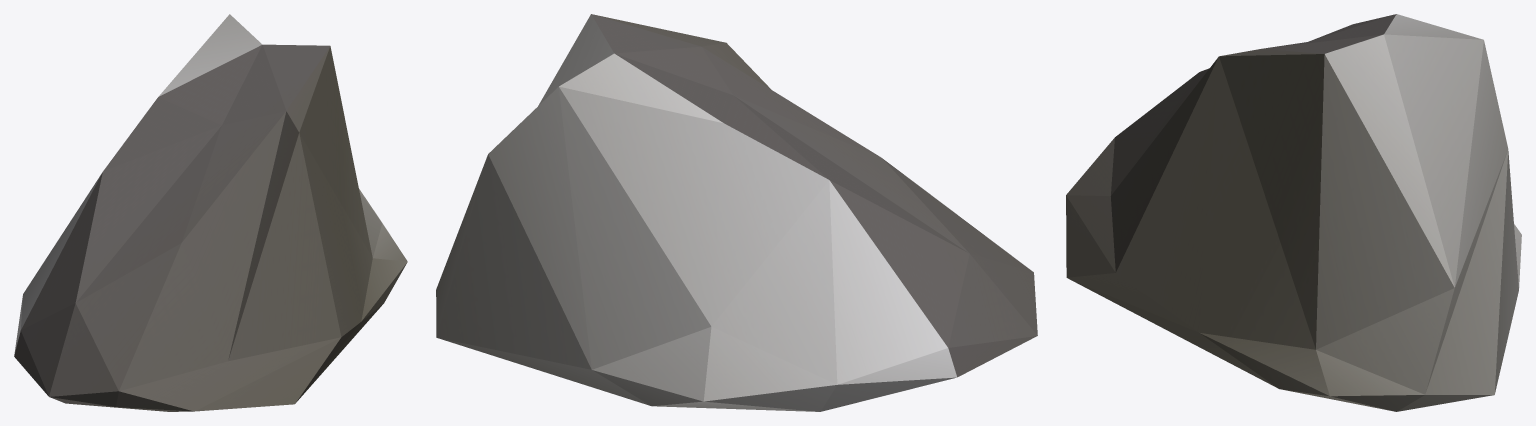
Rendered from rock2.fbx.
3 views of the same model, side by side, from view 1: azimuth 30°, elevation 25°; view 2: azimuth 150°, elevation 25°; view 3: azimuth 270°, elevation 25° (orthographic). The views are drawn at different scales.
Visible parts, largest first — view 1: ROCKS.002; view 2: ROCKS.002; view 3: ROCKS.002.
Part boxes in pixels (x1,y1,x2,y2): ROCKS.002: (14, 14, 407, 411); ROCKS.002: (436, 14, 1037, 411); ROCKS.002: (1066, 14, 1521, 411).
Bounding box in the file's own units: 286 × 172 × 214.
